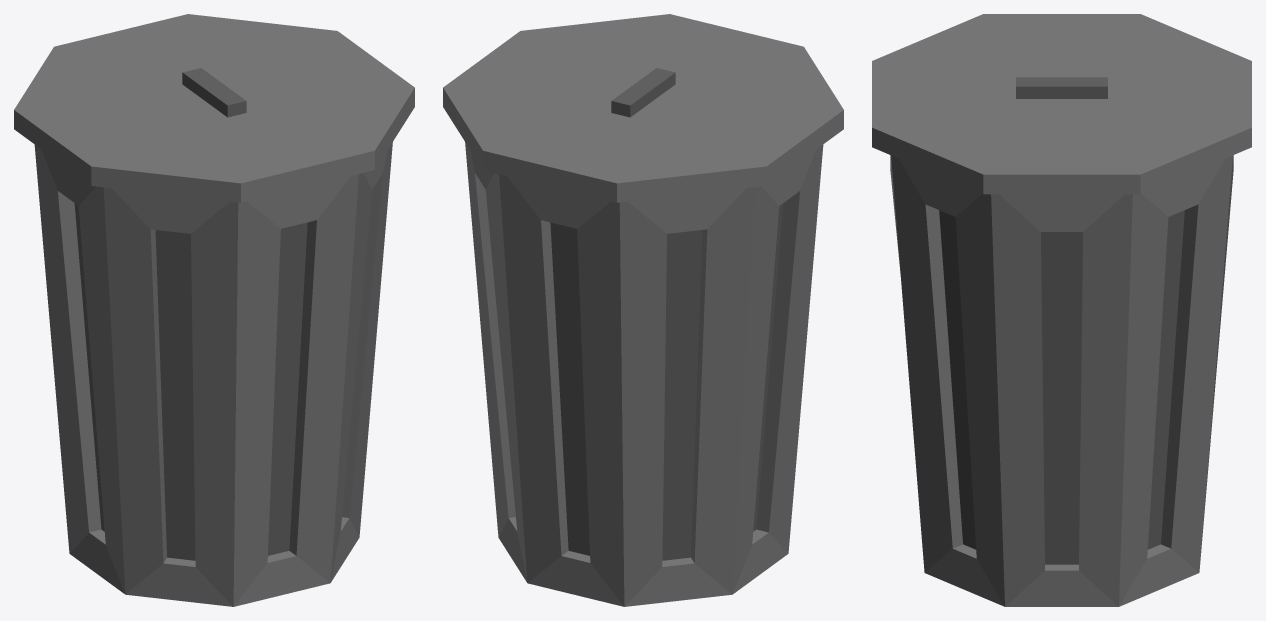
File: Trash_Small.fbx
The picture shows the model from 3 angles, left to right: view 1: azimuth 30°, elevation 25°; view 2: azimuth 150°, elevation 25°; view 3: azimuth 270°, elevation 25°; orthographic projection.
Parts seen in each view (by area): view 1: Trash_Small; view 2: Trash_Small; view 3: Trash_Small.
Part boxes in pixels (box(x1,y1,x2,y2)): Trash_Small: box(14, 14, 414, 606); Trash_Small: box(443, 14, 843, 606); Trash_Small: box(872, 14, 1251, 606).
Size of the model in its own units: 75.34 by 102 by 75.34.
1 material, 1 textured.
